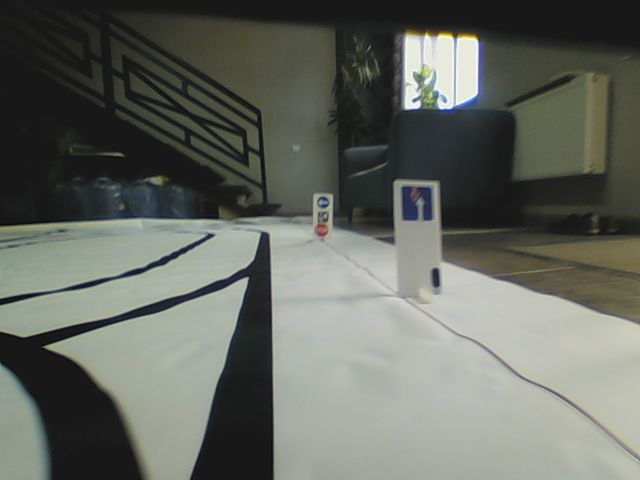priority_movement: (399, 185, 435, 223)
